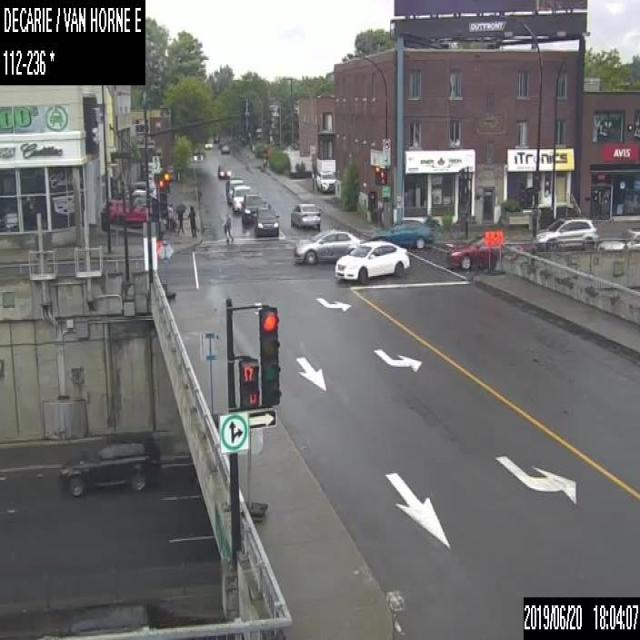construction: (242, 427, 266, 520), (198, 328, 220, 427), (157, 239, 175, 298), (494, 228, 504, 274), (484, 228, 494, 274)
pedestrian: (222, 208, 234, 242), (176, 200, 186, 235), (166, 201, 176, 230), (187, 204, 196, 236)
vehicle: (59, 433, 159, 494), (36, 597, 154, 636), (334, 240, 409, 281), (444, 228, 520, 268), (293, 228, 363, 263), (532, 216, 596, 250), (370, 220, 435, 249), (101, 198, 154, 228), (598, 224, 639, 251), (251, 200, 278, 237), (291, 202, 319, 226), (240, 192, 262, 222), (230, 184, 251, 212), (316, 169, 336, 193), (225, 176, 243, 202), (218, 162, 231, 178), (192, 148, 203, 160), (203, 138, 212, 148), (221, 144, 229, 152)
